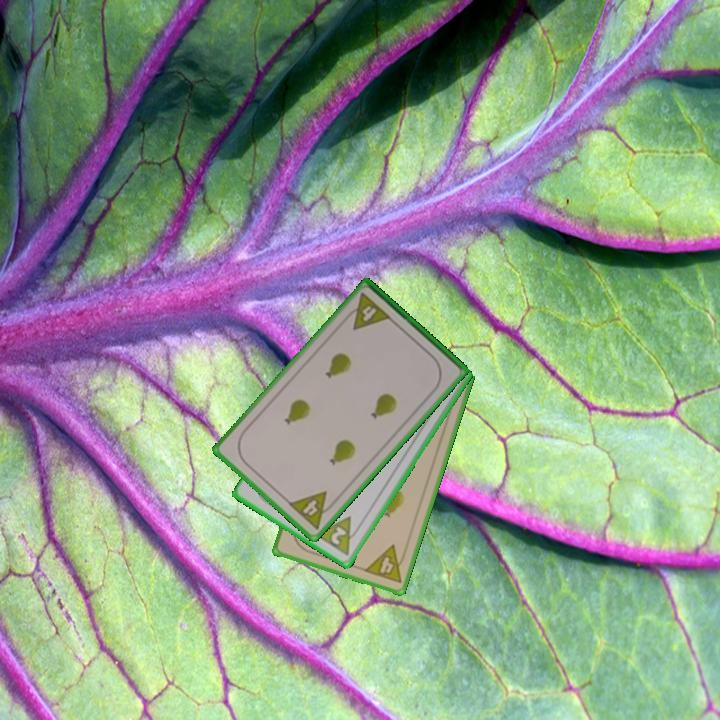2p: (312, 513, 365, 559)
4p: (285, 488, 340, 533), (341, 289, 394, 333), (360, 541, 410, 586)
